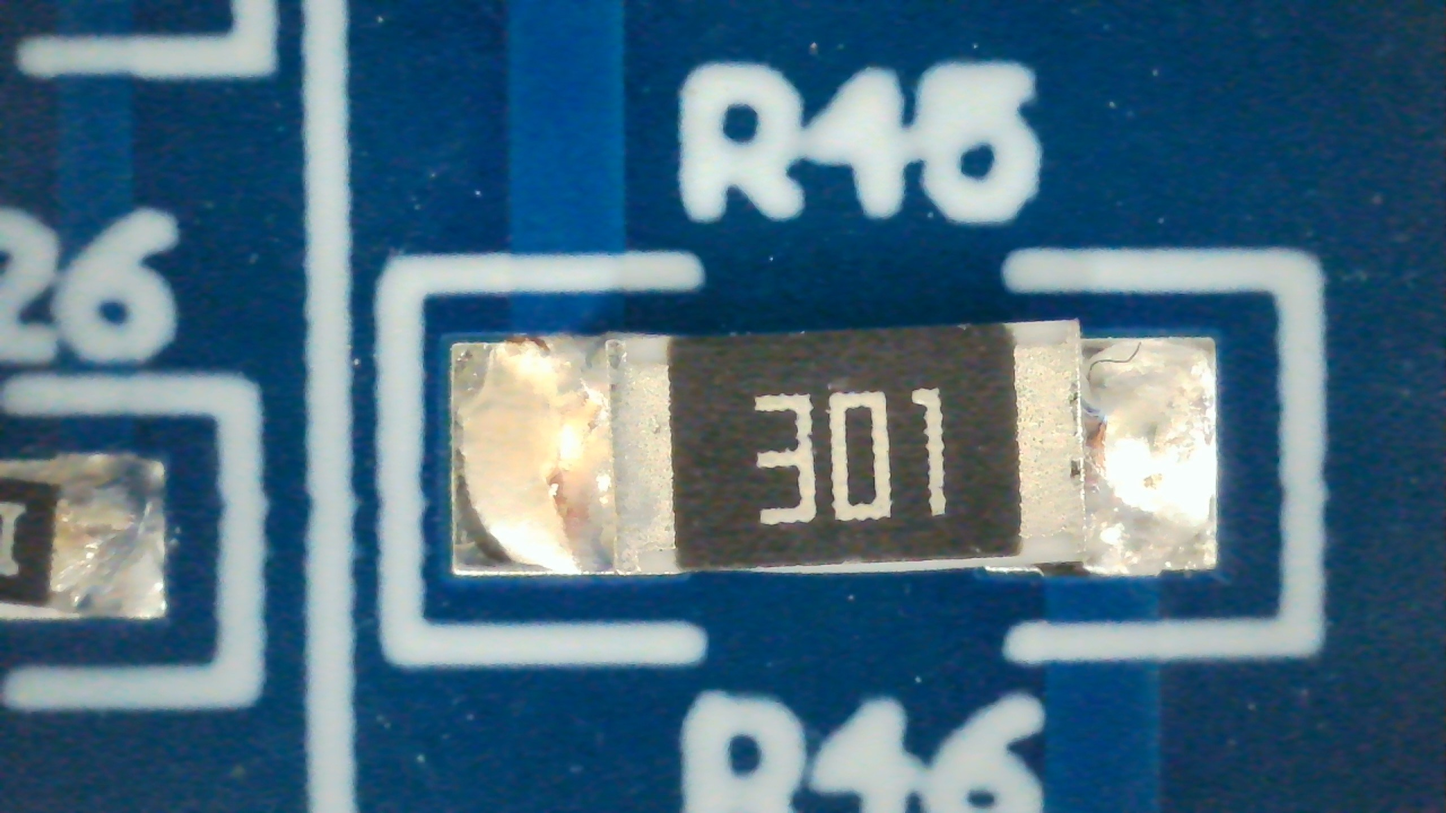OK: (451, 319, 1219, 577)
